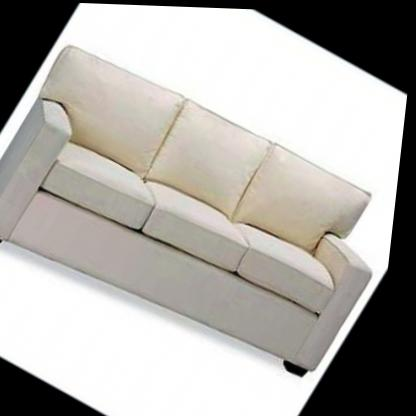Sofa: (0, 18, 414, 416)
